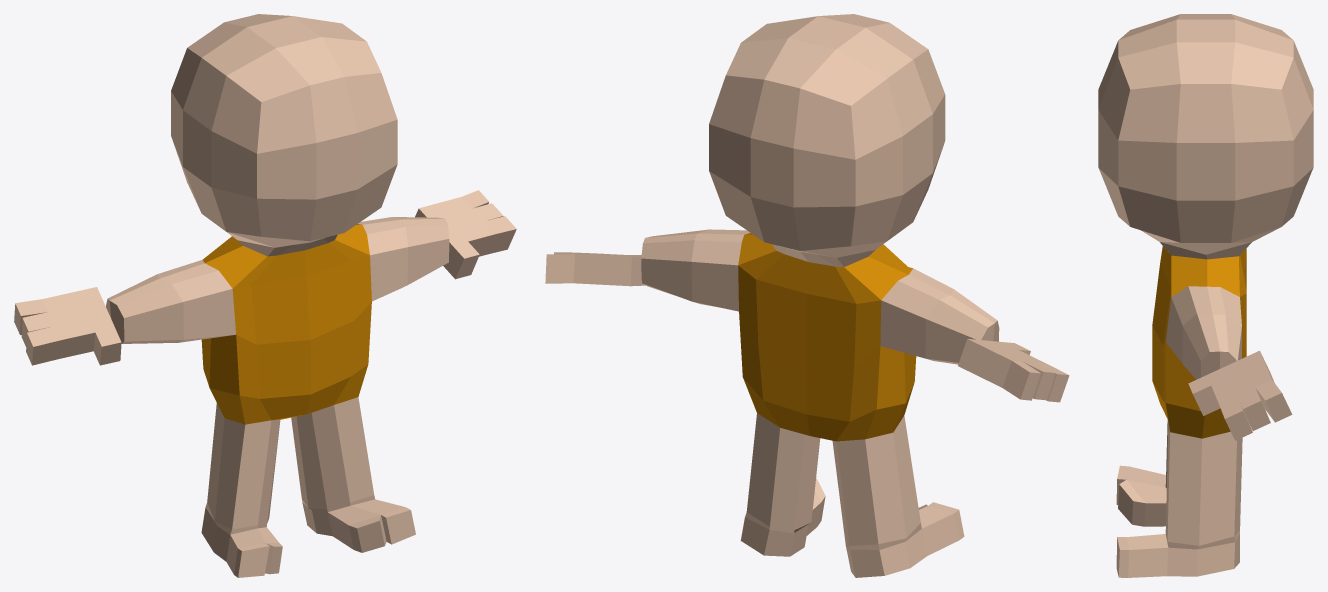
Rendered from monk_uv_hands.fbx.
3 renders of one model, left to right at view 1: azimuth 30°, elevation 25°; view 2: azimuth 150°, elevation 25°; view 3: azimuth 270°, elevation 25°, orthographic. The views are drawn at different scales.
Visible parts, largest first — view 1: Cube.001; view 2: Cube.001; view 3: Cube.001.
Part boxes in pixels (box(x1,y1,x2,y2)): Cube.001: box(14, 14, 516, 577); Cube.001: box(545, 14, 1069, 577); Cube.001: box(1098, 14, 1313, 577).
Bounding box in the file's own units: 10.2 × 10.19 × 3.85.
